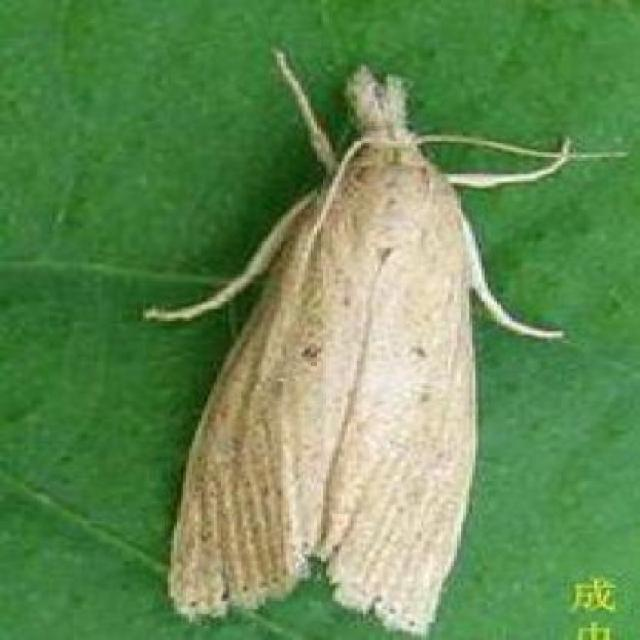stem-borer: (137, 47, 552, 638)
